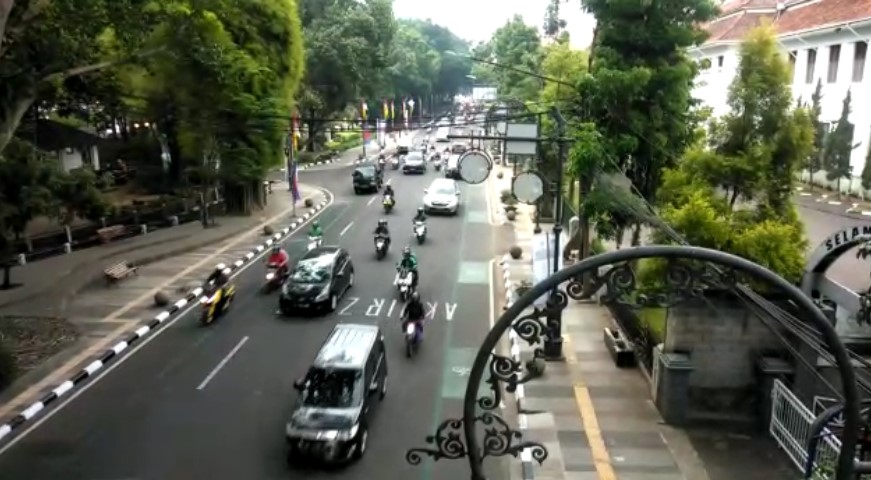mobil: (279, 321, 393, 465), (283, 245, 354, 320), (422, 178, 467, 218), (348, 164, 383, 192)
motor: (193, 266, 236, 324), (396, 297, 430, 355), (395, 249, 423, 297), (264, 242, 289, 292), (370, 219, 393, 258), (410, 209, 429, 248), (378, 186, 399, 218)
